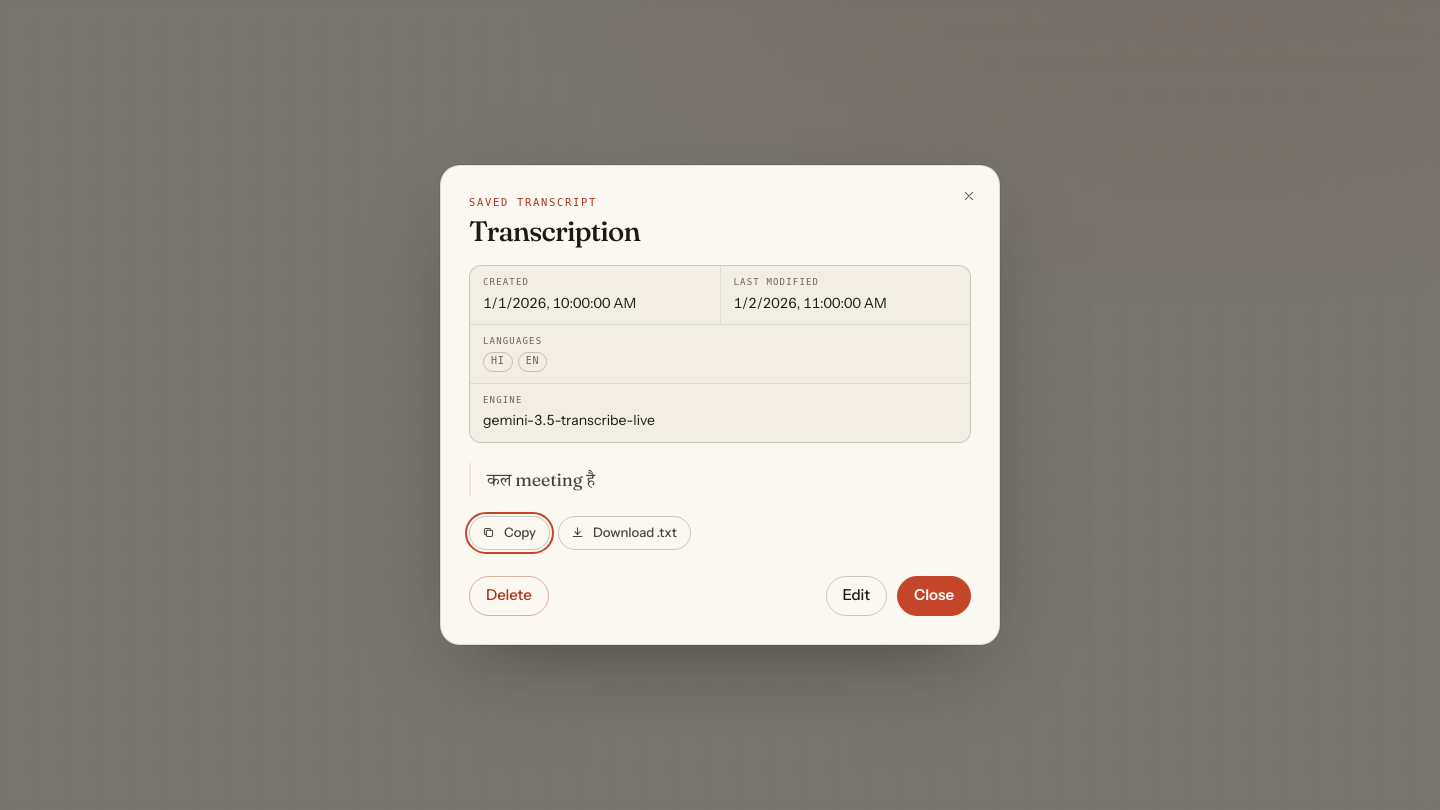
Test case: EntryDialog › blocks blank text with a reason
Click the button "Edit": (856, 596) 826,576 -> 887,616
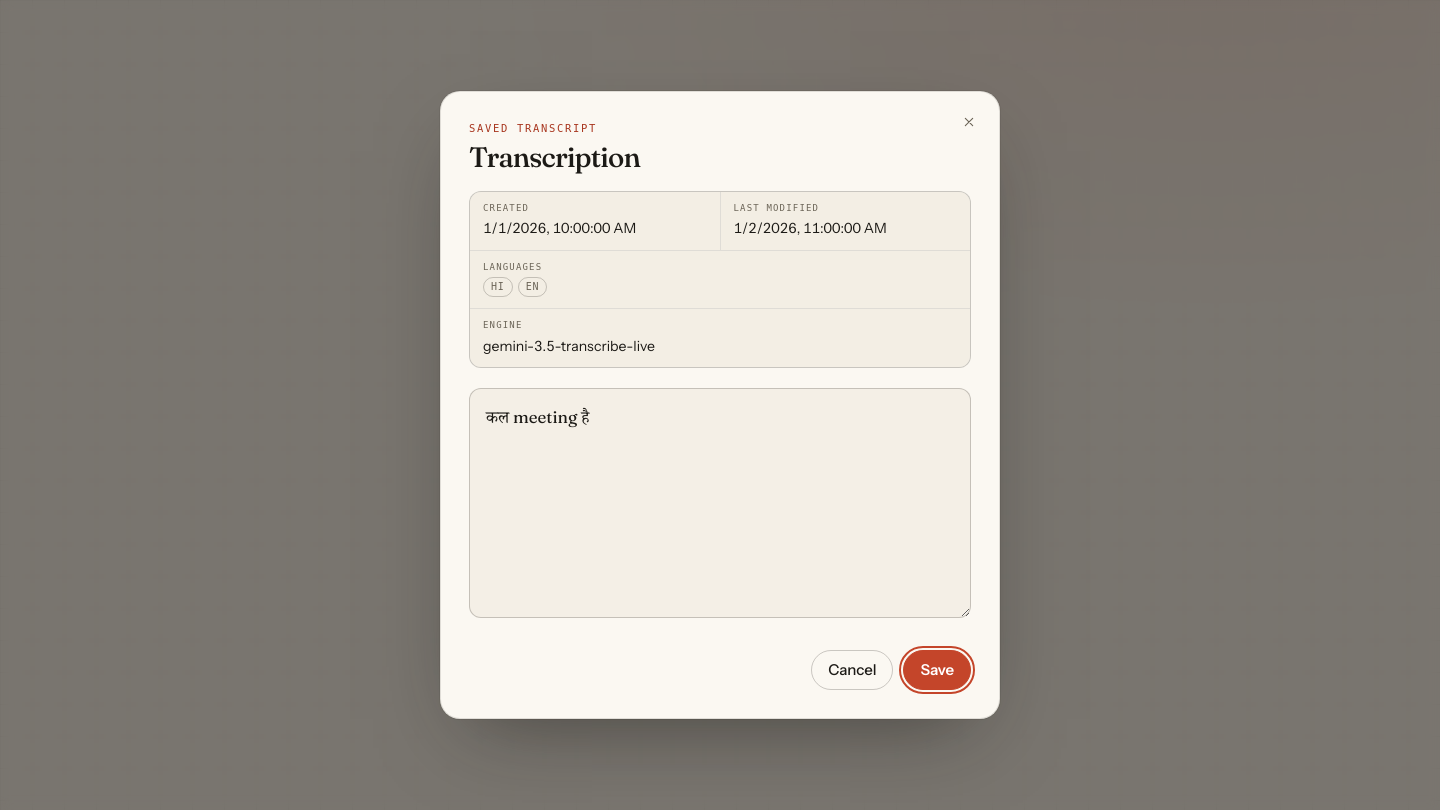
Clear the text box: (720, 503) 469,388 -> 971,618
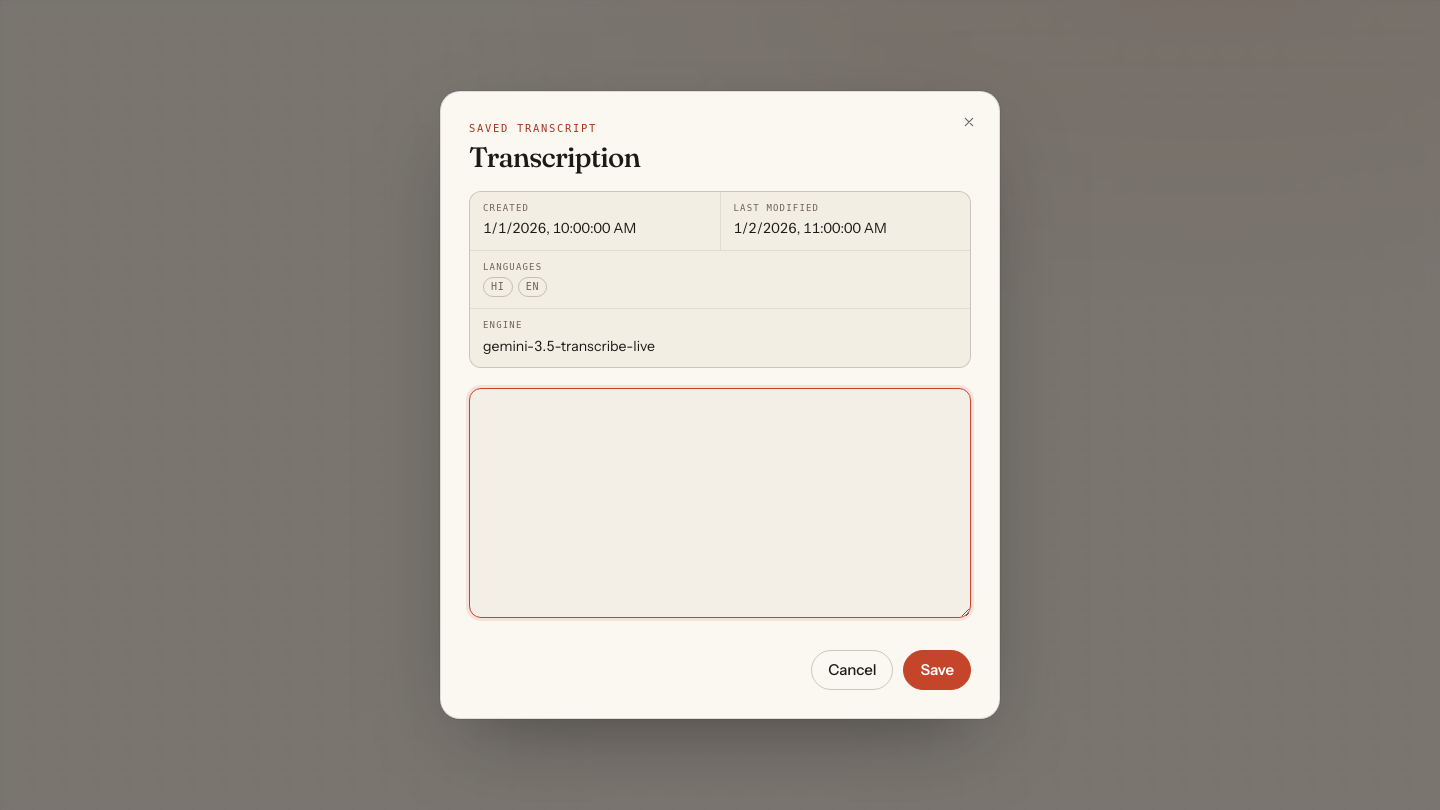
Click the button "Save": (937, 670) 903,650 -> 971,690
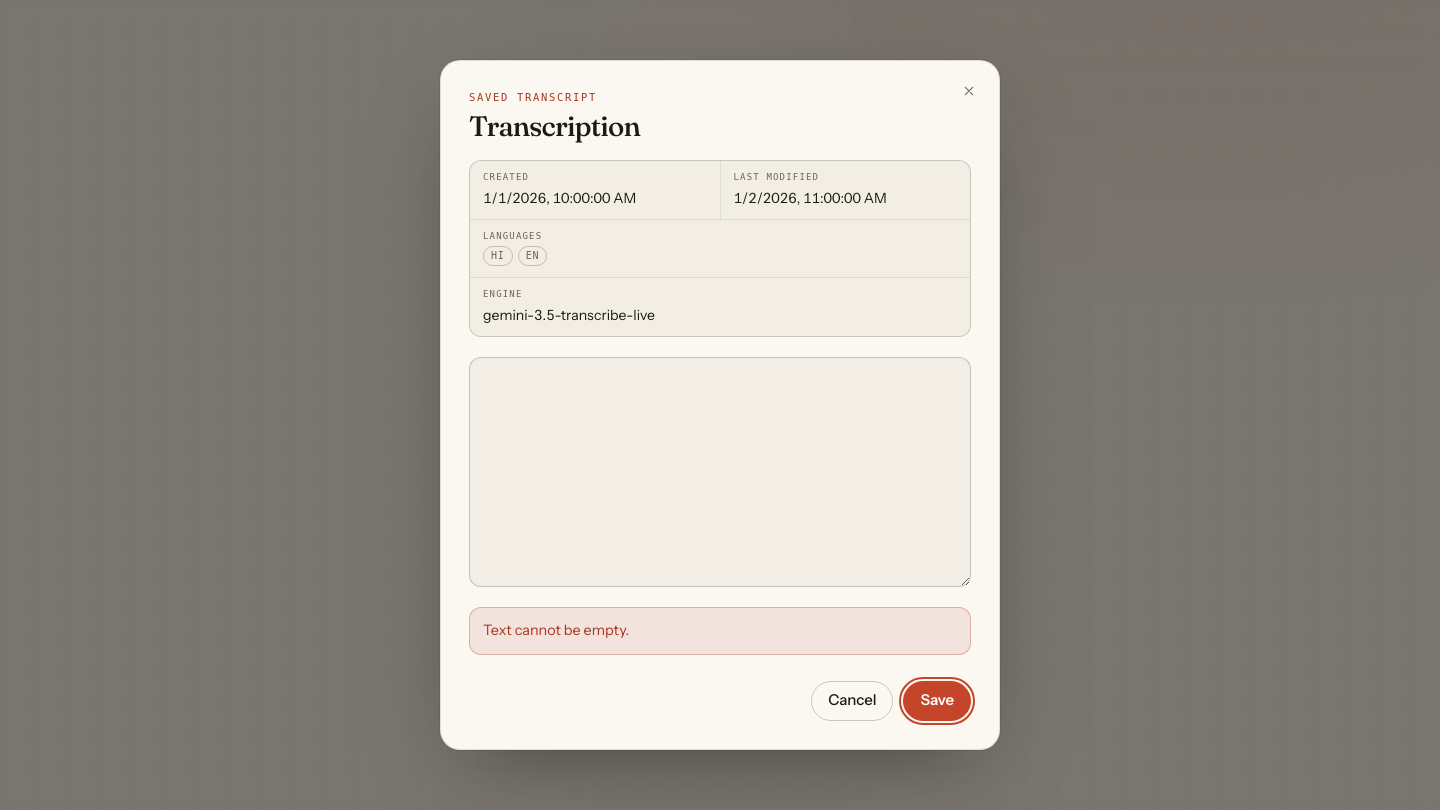
Expected: the message shows "Text cannot be empty", 483,621 -> 629,639
